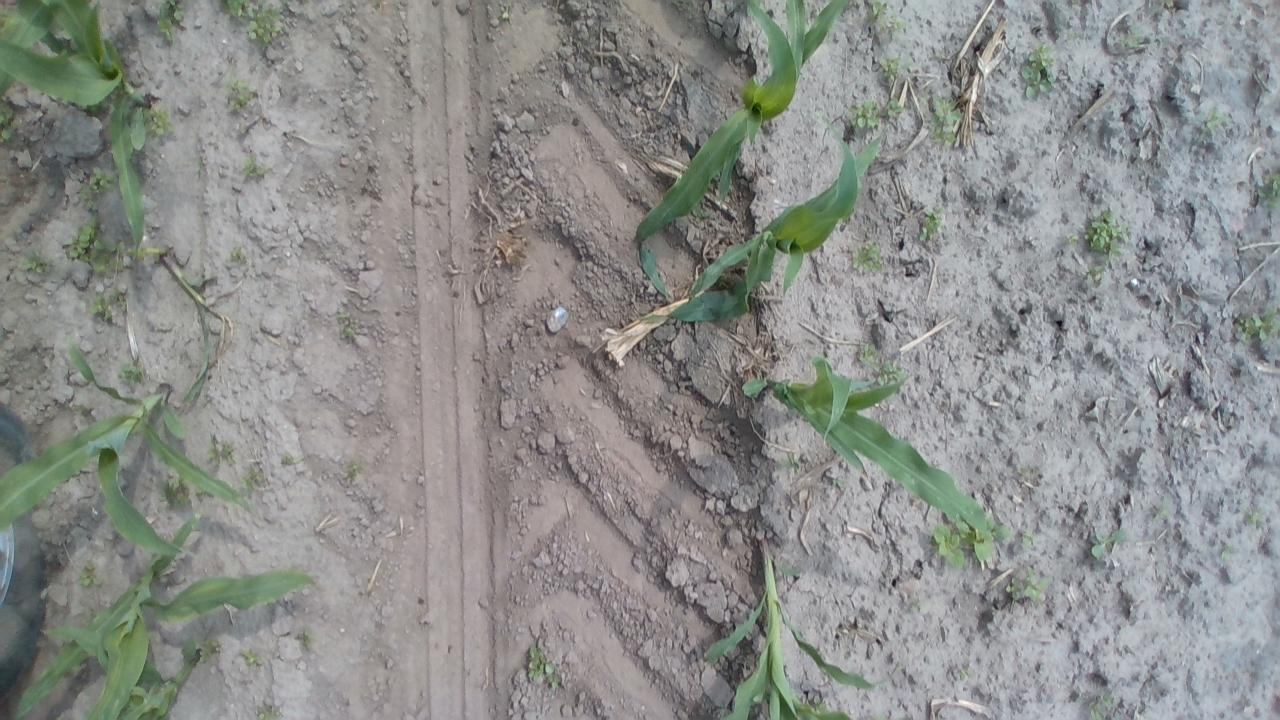Maize: (626, 0, 859, 300), (11, 516, 327, 720), (0, 336, 258, 562), (641, 114, 887, 318), (741, 358, 990, 537), (0, 1, 160, 254), (691, 544, 892, 720), (133, 253, 228, 416), (42, 628, 205, 720)
Weeds: (0, 0, 65, 108), (63, 214, 130, 276), (942, 510, 1012, 567), (928, 517, 982, 571), (1082, 206, 1131, 264), (1019, 44, 1059, 102), (1003, 564, 1053, 608), (926, 93, 966, 148), (524, 640, 564, 692), (849, 96, 900, 132), (1234, 306, 1278, 347), (243, 8, 286, 48), (76, 167, 116, 209), (153, 0, 190, 44), (1088, 524, 1130, 560), (846, 239, 884, 274), (86, 291, 128, 322), (224, 76, 258, 112), (204, 432, 238, 466), (141, 106, 174, 140), (156, 474, 188, 508), (917, 207, 944, 245), (870, 5, 901, 38), (116, 355, 146, 389), (1254, 170, 1276, 212), (876, 358, 909, 386), (189, 635, 221, 663), (239, 153, 271, 181), (866, 1, 892, 35), (336, 310, 361, 345), (879, 56, 912, 82), (21, 251, 52, 278), (1148, 500, 1176, 528), (1087, 692, 1115, 719), (1200, 109, 1226, 138), (218, 0, 256, 19), (342, 456, 366, 486), (1114, 29, 1145, 52), (76, 562, 101, 590), (800, 693, 835, 713), (239, 466, 263, 494), (0, 102, 16, 144), (294, 627, 319, 653), (1018, 526, 1042, 552), (780, 456, 807, 478), (252, 701, 286, 718), (242, 648, 268, 670), (1244, 506, 1266, 532), (1084, 265, 1113, 283), (279, 450, 304, 470), (86, 95, 112, 114), (854, 342, 876, 364), (60, 30, 78, 56), (884, 16, 905, 38), (228, 244, 248, 266), (908, 596, 931, 614), (495, 5, 513, 23), (1219, 544, 1238, 561), (690, 204, 711, 219), (827, 474, 846, 490), (956, 664, 974, 680), (1159, 0, 1179, 11), (194, 486, 210, 498), (1016, 464, 1030, 476), (1066, 234, 1078, 244), (921, 88, 930, 100), (194, 160, 203, 170), (76, 409, 85, 415)
